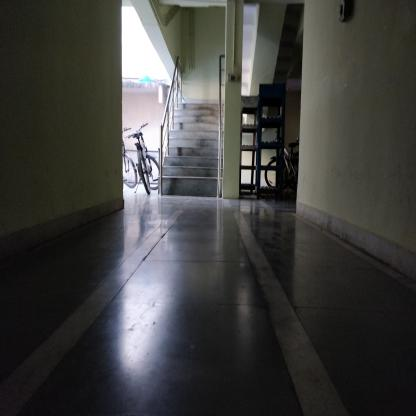stairs: (180, 103, 217, 201)
